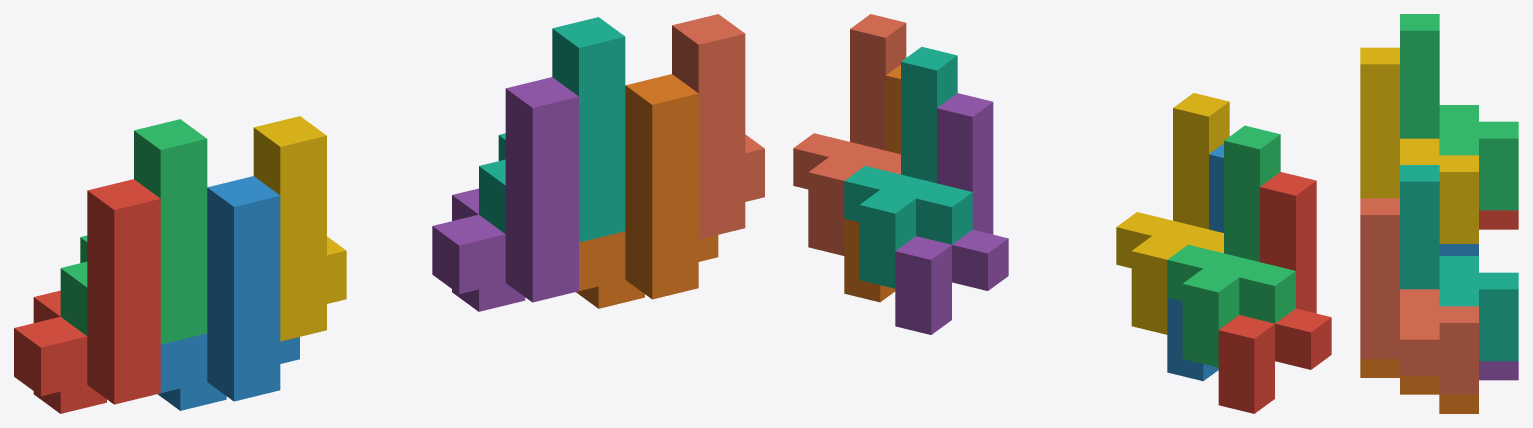
The model's file is tiling.obj.
The picture shows the model from 3 angles, left to right: view 1: azimuth 30°, elevation 25°; view 2: azimuth 150°, elevation 25°; view 3: azimuth 270°, elevation 25°; orthographic projection. The views are drawn at different scales.
Visible parts, largest first — view 1: copy_1_domain_1, copy_1_domain_5, copy_1_domain_2, copy_1_domain_6, copy_1_domain_3, copy_1_domain_7, copy_1_domain_8, copy_1_domain_4; view 2: copy_1_domain_3, copy_1_domain_7, copy_1_domain_5, copy_1_domain_1, copy_1_domain_8, copy_1_domain_4, copy_1_domain_6, copy_1_domain_2; view 3: copy_1_domain_8, copy_1_domain_4, copy_1_domain_3, copy_1_domain_7, copy_1_domain_6, copy_1_domain_1, copy_1_domain_5, copy_1_domain_2.
Boxes of the visible parts, x1,y1,x2,y2 form: copy_1_domain_1: (14, 179, 160, 413); copy_1_domain_5: (432, 77, 578, 311); copy_1_domain_2: (157, 176, 299, 410); copy_1_domain_6: (576, 74, 718, 308); copy_1_domain_3: (60, 119, 207, 344); copy_1_domain_7: (479, 17, 625, 242); copy_1_domain_8: (672, 14, 764, 239); copy_1_domain_4: (253, 116, 346, 341); copy_1_domain_3: (1167, 125, 1295, 367); copy_1_domain_7: (844, 46, 972, 288); copy_1_domain_5: (895, 93, 1008, 334); copy_1_domain_1: (1218, 172, 1331, 413); copy_1_domain_8: (793, 14, 906, 255); copy_1_domain_4: (1116, 93, 1229, 334); copy_1_domain_6: (844, 64, 900, 302); copy_1_domain_2: (1167, 143, 1223, 381); copy_1_domain_8: (1360, 198, 1478, 394); copy_1_domain_4: (1360, 47, 1478, 243); copy_1_domain_3: (1400, 14, 1518, 210); copy_1_domain_7: (1400, 165, 1518, 361); copy_1_domain_6: (1360, 359, 1478, 413); copy_1_domain_1: (1479, 210, 1518, 229); copy_1_domain_5: (1479, 361, 1518, 380); copy_1_domain_2: (1439, 244, 1478, 255).
Size of the model in its own units: 15 by 6 by 4.
